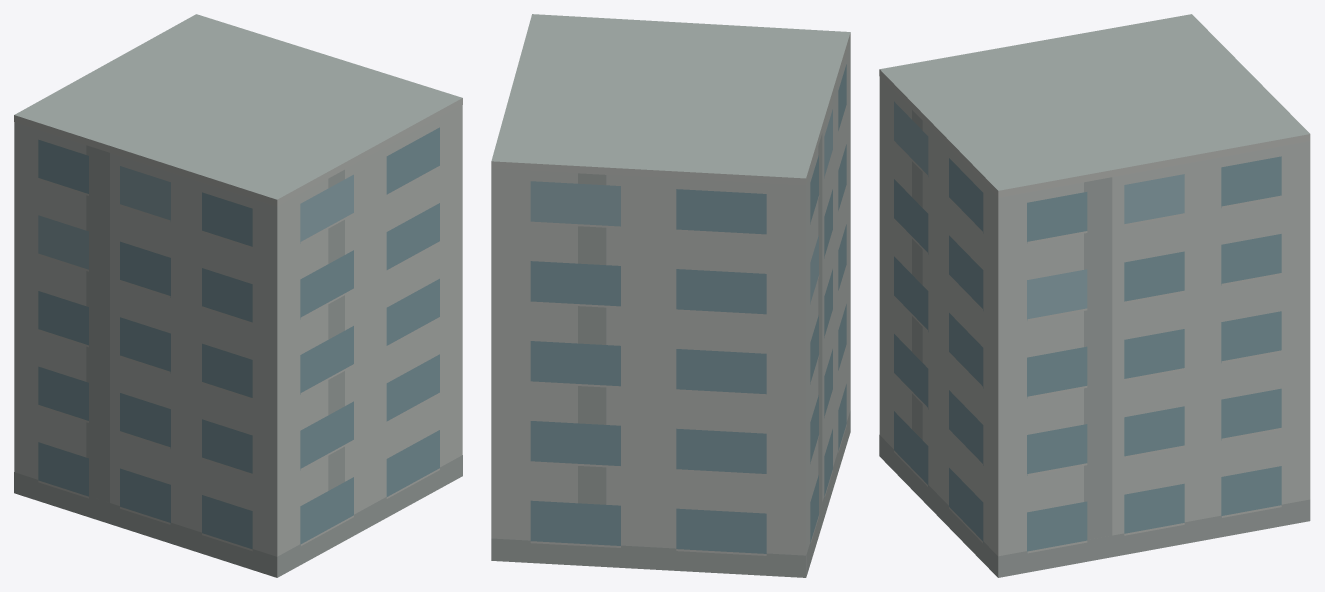
File: survey-upis-32750200.glb
3 renders of one model, left to right at view 1: azimuth 30°, elevation 25°; view 2: azimuth 150°, elevation 25°; view 3: azimuth 270°, elevation 25°, orthographic. The views are drawn at different scales.
Visible parts, largest first — view 1: survey-upis-32750200.tmp; view 2: survey-upis-32750200.tmp; view 3: survey-upis-32750200.tmp.
Boxes of the visible parts, x1,y1,x2,y2 form: survey-upis-32750200.tmp: (14,14,462,577); survey-upis-32750200.tmp: (491,14,850,577); survey-upis-32750200.tmp: (879,14,1310,577).
Size of the model in its own units: 13.04 by 13.3 by 13.43.
